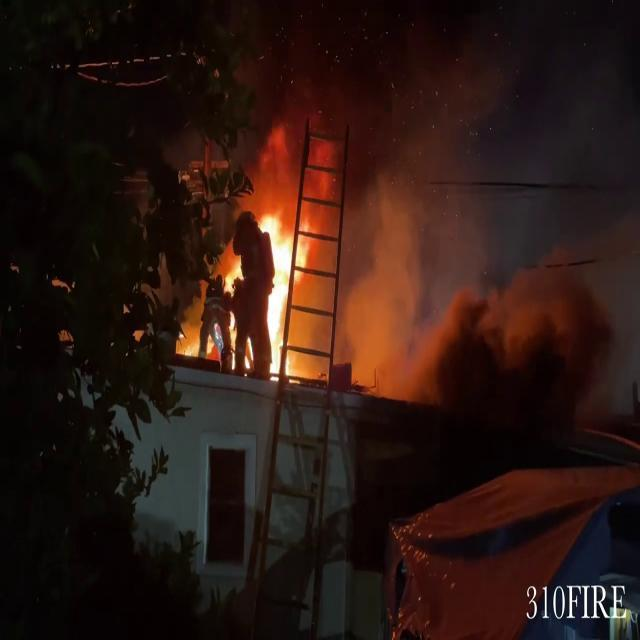Fire: (258, 205, 308, 375)
Smoke: (317, 115, 640, 412)
